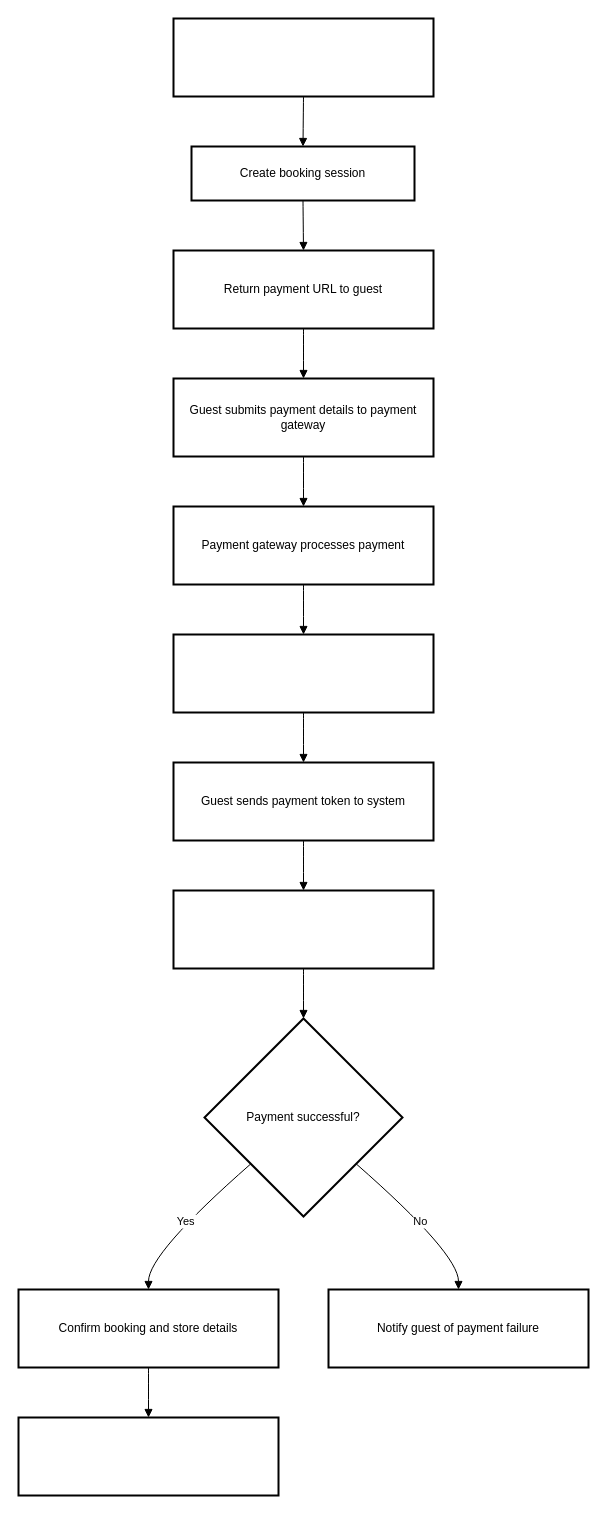
This 606x1513 diagram has some shape labels left out. The centre of each missing label's shape, as x and y in pixels:
"Guest selects property and dates" goes at (x=303, y=57).
"Notify guest and host of confirmed booking" goes at (x=148, y=1456).
"Payment gateway returns payment token" goes at (x=303, y=673).
"System verifies payment with gateway" goes at (x=303, y=929).
